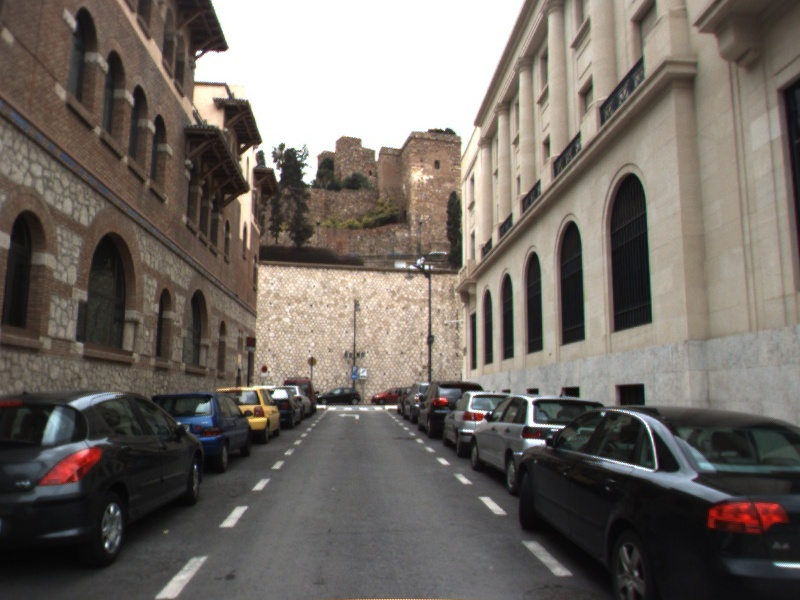LEFT: (337, 411, 362, 421)
